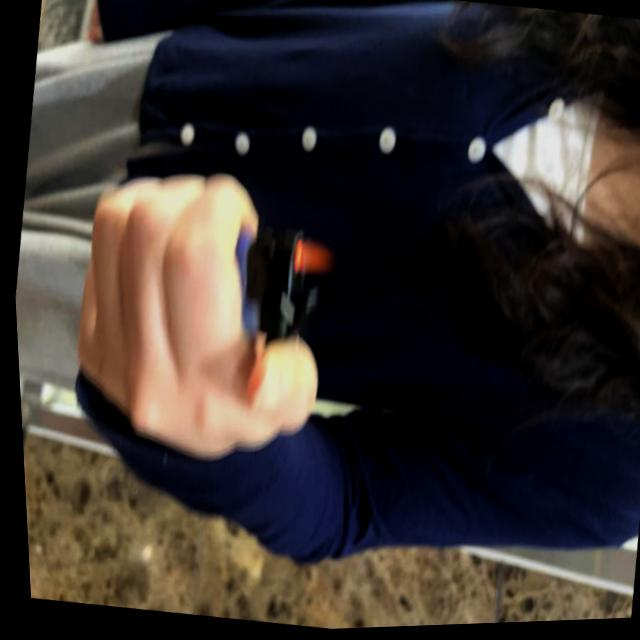Fire: (292, 233, 336, 280)
